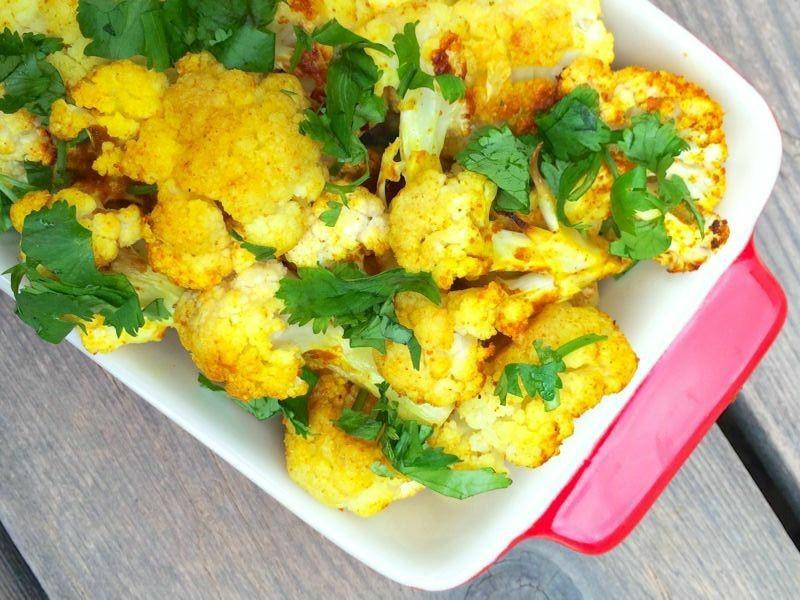AlooGobi: (0, 0, 731, 517)
